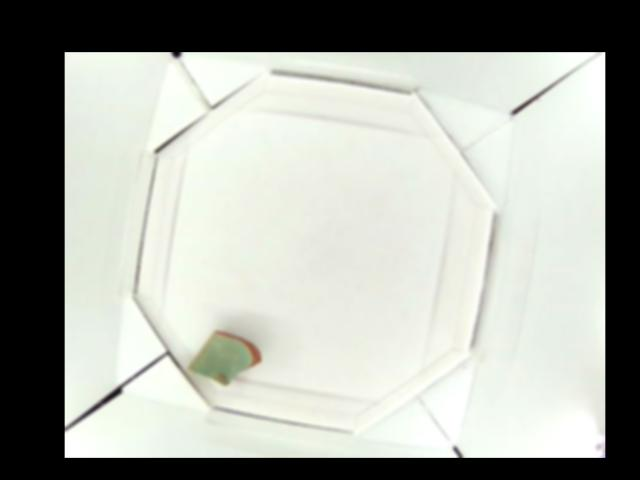China: (185, 329, 263, 384)
